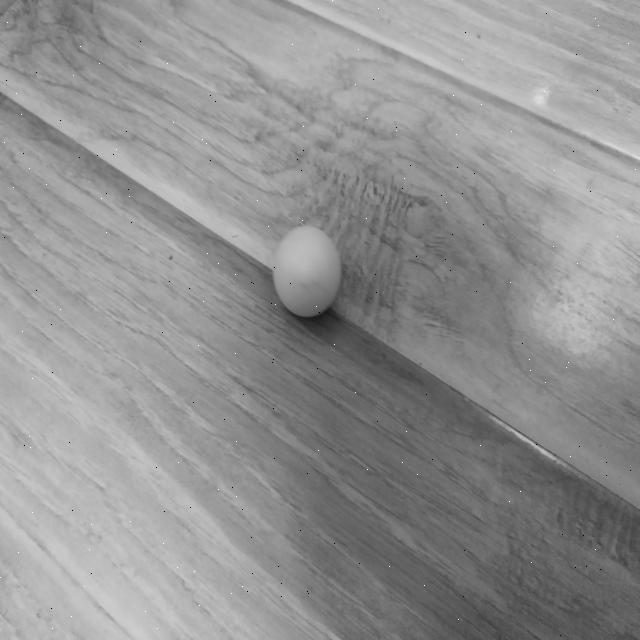ping-pong-ball: (274, 226, 341, 316)
